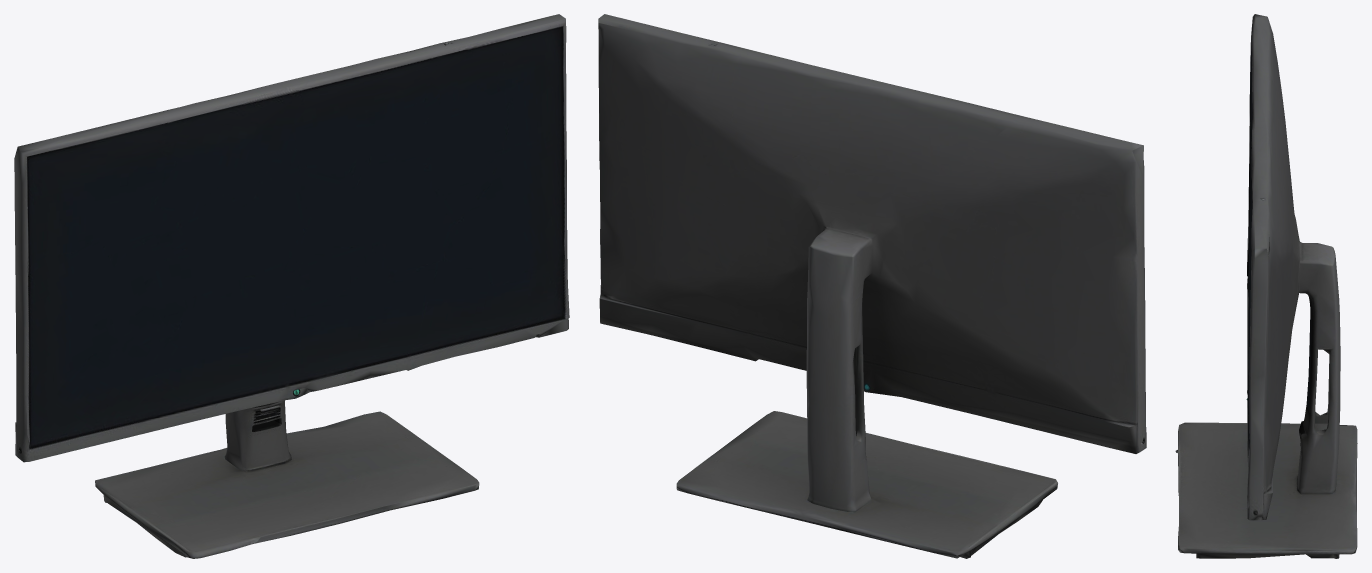
File: 21_monitor.glb
3 renders of one model, left to right at view 1: azimuth 30°, elevation 25°; view 2: azimuth 150°, elevation 25°; view 3: azimuth 270°, elevation 25°, orthographic. The views are drawn at different scales.
Parts seen in each view (by area): view 1: tripo_node_ca03c270-717b-437b-8c1a-9bed3f606071; view 2: tripo_node_ca03c270-717b-437b-8c1a-9bed3f606071; view 3: tripo_node_ca03c270-717b-437b-8c1a-9bed3f606071.
Boxes of the visible parts, x1=… form: tripo_node_ca03c270-717b-437b-8c1a-9bed3f606071: x1=14, y1=14, x2=569, y2=558; tripo_node_ca03c270-717b-437b-8c1a-9bed3f606071: x1=598, y1=14, x2=1146, y2=558; tripo_node_ca03c270-717b-437b-8c1a-9bed3f606071: x1=1175, y1=14, x2=1357, y2=558.
Bounding box in the file's own units: 0.55 × 0.4 × 0.18.
Materials: 1 (1 with a texture image).
